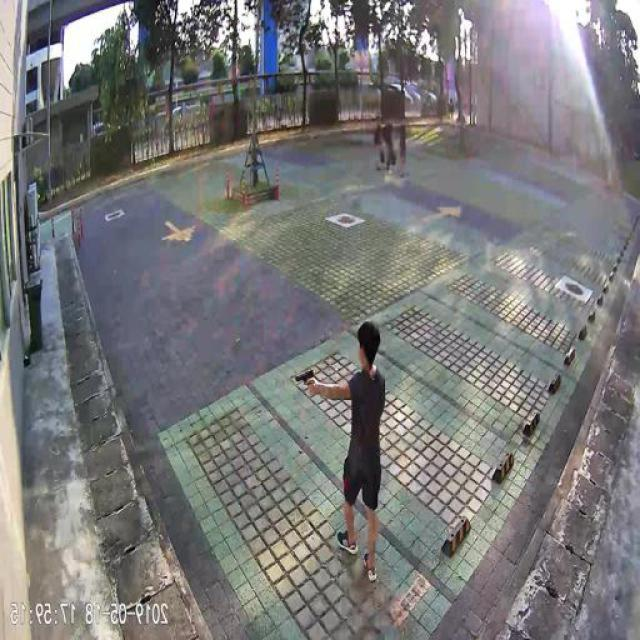weapon: (293, 370, 320, 395)
